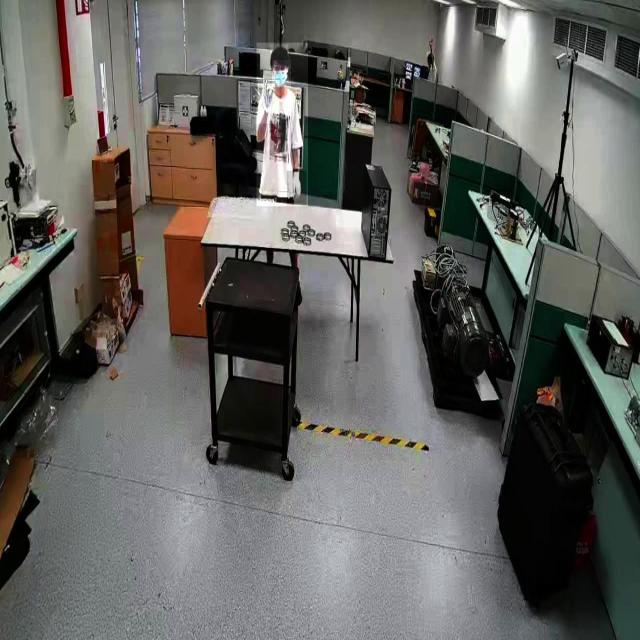face_mask: (272, 60, 292, 88)
hand_glove: (258, 80, 280, 124), (287, 171, 307, 206)
head_nohelmet: (270, 44, 288, 60), (426, 52, 434, 58)
person: (256, 43, 308, 207)
